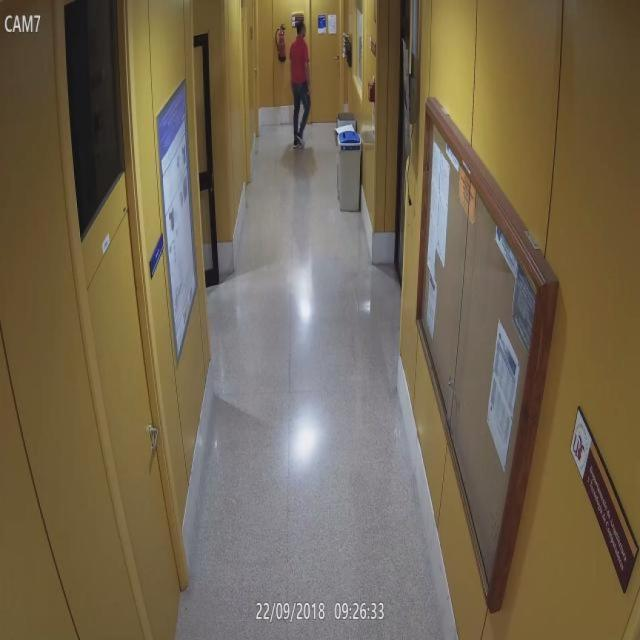pistol: (304, 88, 314, 104)
